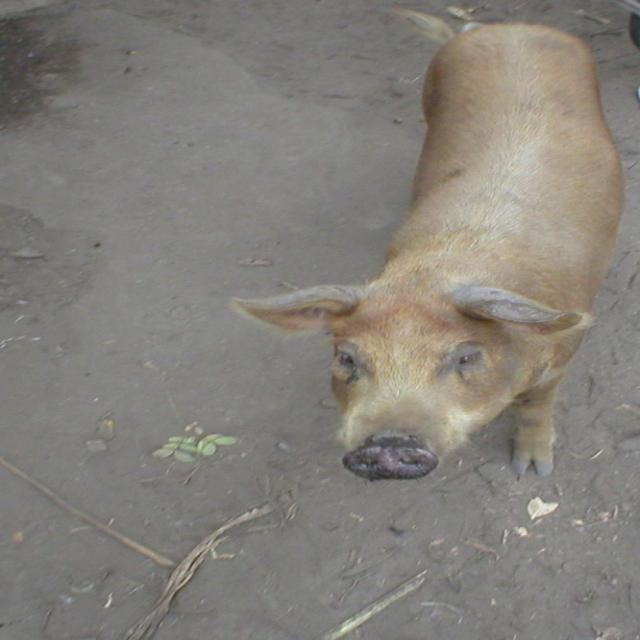Pig: (220, 10, 624, 482)
